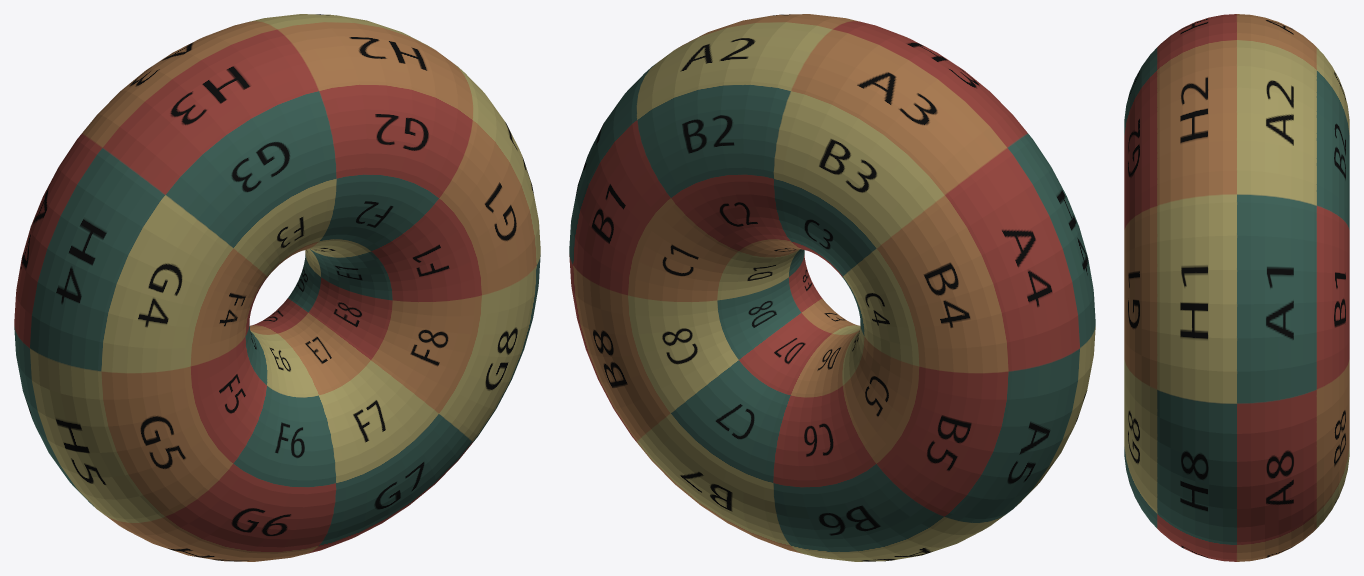
Rendered from texture_torus_R3_r24.glb.
3 renders of one model, left to right at view 1: azimuth 30°, elevation 25°; view 2: azimuth 150°, elevation 25°; view 3: azimuth 270°, elevation 25°, orthographic. The views are drawn at different scales.
Visible parts, largest first — view 1: world; view 2: world; view 3: world.
Part boxes in pixels (x1,y1,x2,y2): world: (14, 14, 540, 561); world: (569, 14, 1095, 561); world: (1124, 14, 1349, 561).
Size of the model in its own units: 20.4 by 20.36 by 8.38.
Materials: 1 (1 with a texture image).
